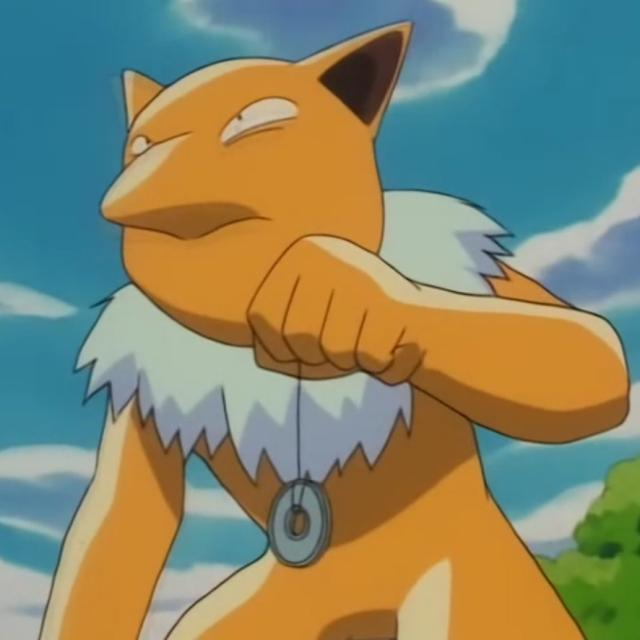Hypno: (94, 41, 516, 640)
